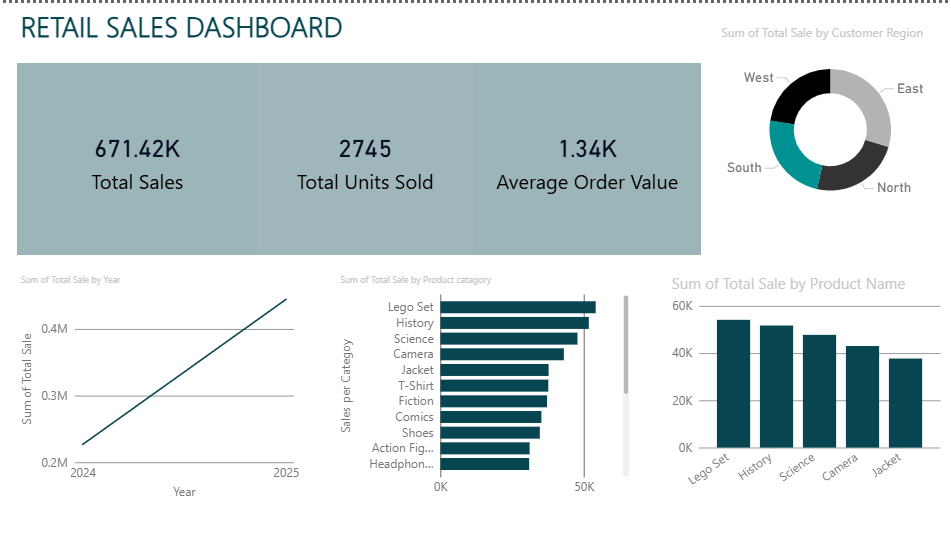

What the dashboard file says about the page in this screenshot:
{"tool":"powerbi","page":{"name":"Page 1","canvas":[1280,720],"ordinal":0},"visuals":[{"type":"lineChart","fields":{"Category":["SalesData.Date.Variation.Date Hierarchy.Year","SalesData.Date.Variation.Date Hierarchy.Quarter","SalesData.Date.Variation.Date Hierarchy.Month","SalesData.Date.Variation.Date Hierarchy.Day"],"Y":["Sum(SalesData.Total Sale)"]},"box":[32,272,320,224],"z":0},{"type":"barChart","fields":{"Category":["SalesData.Product catagory"],"Y":["Sum(SalesData.Total Sale)"]},"box":[368,272,352,208],"z":1000},{"type":"clusteredColumnChart","fields":{"Category":["SalesData.Product Name"],"Y":["Sum(SalesData.Total Sale)"]},"box":[752,272,336,224],"z":2000},{"type":"donutChart","fields":{"Category":["SalesData.Customer Region"],"Y":["Sum(SalesData.Total Sale)"]},"box":[864,32,400,224],"z":3000},{"type":"card","fields":{"Values":["SalesData.Average Order Value"]},"box":[576,80,272,176],"z":4000},{"type":"card","fields":{"Values":["SalesData.Total Units Sold"]},"box":[304,80,272,176],"z":5000},{"type":"card","fields":{"Values":["SalesData.Total Sales"]},"box":[32,80,272,176],"z":6000},{"type":"textbox","box":[32,0,464,64],"z":7000},{"type":"slicer","fields":{"Values":["SalesData.Customer Region"]},"box":[32,528,320,176],"z":8000},{"type":"slicer","fields":{"Values":["SalesData.Product catagory"]},"box":[352,544,272,160],"z":9000},{"type":"slicer","fields":{"Values":["SalesData.Product Name"]},"box":[656,544,272,160],"z":10000}]}

Visuals, with their boxes in screenshot pixels (x1, y1, x2, y2), scaled from the page's 1280x720 canvas onto the 951x540 screenshot:
lineChart - SalesData.Date.Variation.Date Hierarchy.Year x SalesData.Date.Variation.Date Hierarchy.Quarter: locate(24, 204, 262, 372)
barChart - SalesData.Product catagory x Sum(SalesData.Total Sale): locate(273, 204, 535, 360)
clusteredColumnChart - SalesData.Product Name x Sum(SalesData.Total Sale): locate(559, 204, 808, 372)
donutChart - SalesData.Customer Region x Sum(SalesData.Total Sale): locate(642, 24, 939, 192)
card - SalesData.Average Order Value: locate(428, 60, 630, 192)
card - SalesData.Total Units Sold: locate(226, 60, 428, 192)
card - SalesData.Total Sales: locate(24, 60, 226, 192)
textbox: locate(24, 0, 369, 48)
slicer - SalesData.Customer Region: locate(24, 396, 262, 528)
slicer - SalesData.Product catagory: locate(262, 408, 464, 528)
slicer - SalesData.Product Name: locate(487, 408, 689, 528)
